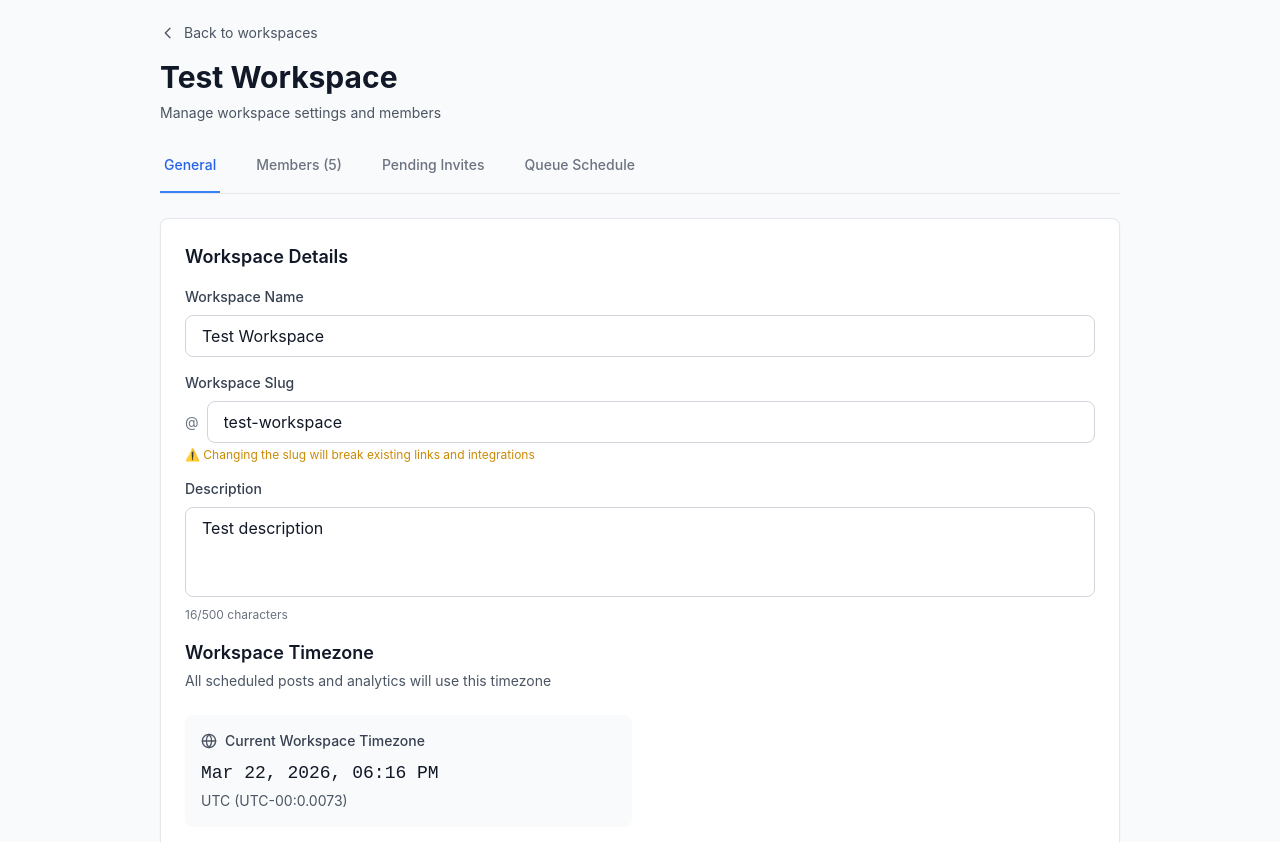
Scenario: workspace name › shows an error toast and reverts the input when save rejects
Step 1. Replace the text in the field showing "Test Workspace" below "Workspace Name" with "Updated Workspace" → coordinates (640, 336), box x1=185 y1=315 x2=1095 y2=357
(page scrolled)
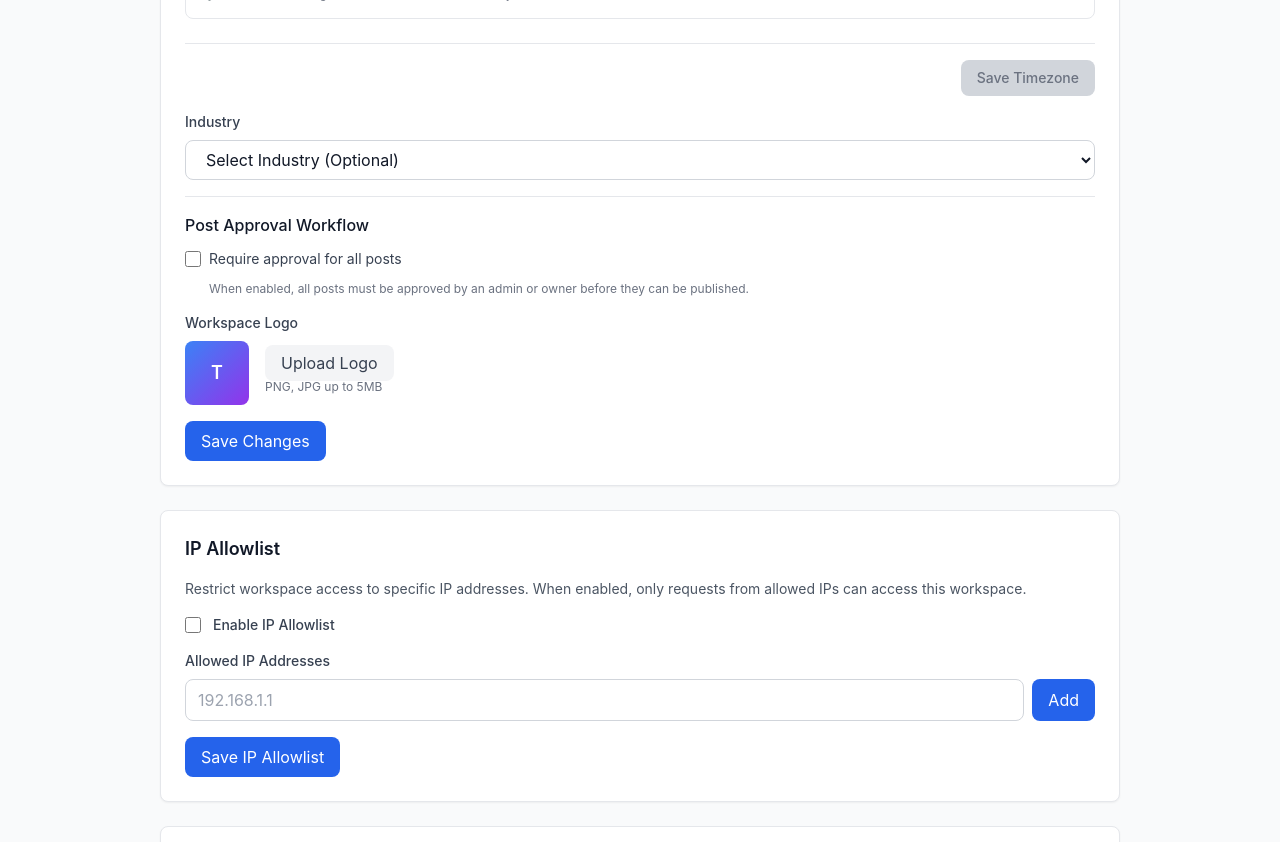
Step 2. Click the button "Save Changes" → coordinates (255, 441), box x1=185 y1=421 x2=326 y2=461
(page scrolled)
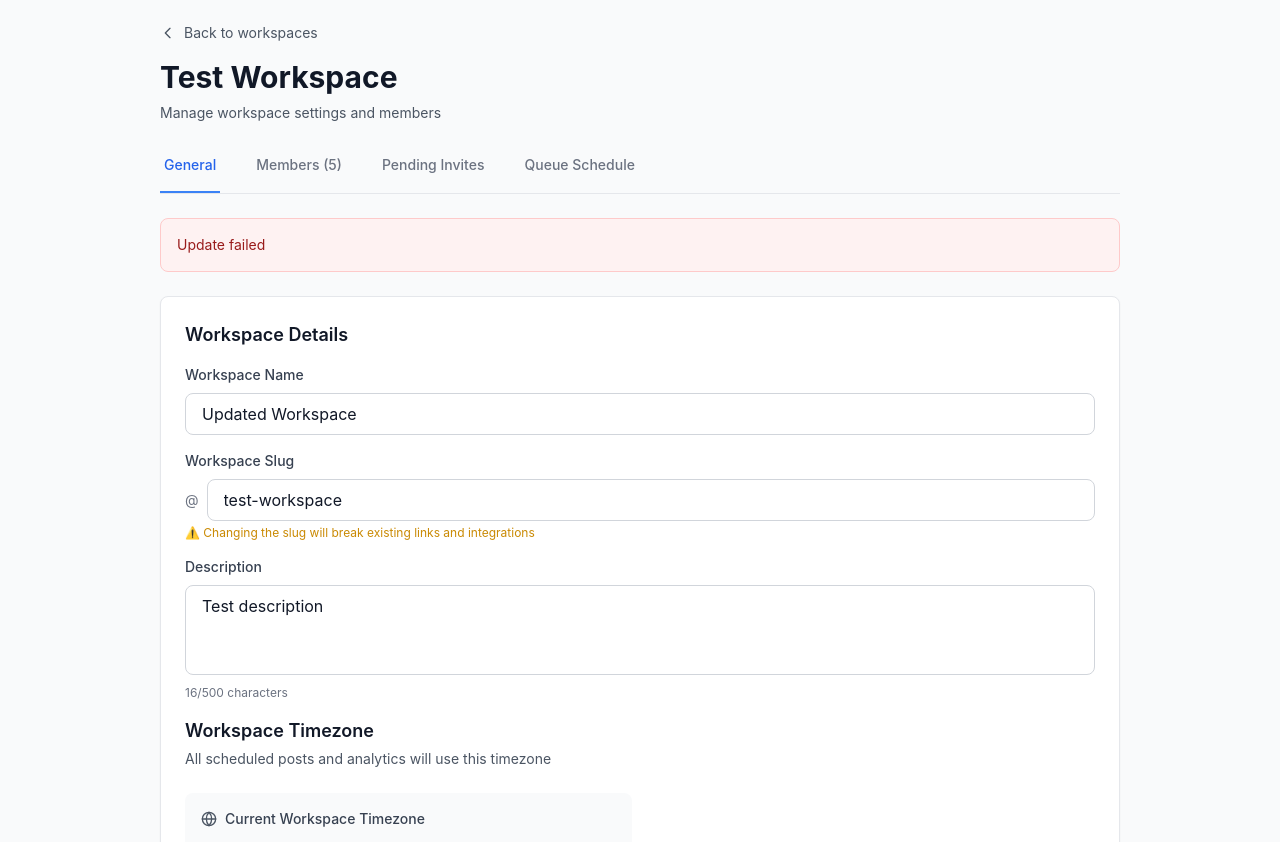
Result: the text "Update failed" is shown at x1=177 y1=236 x2=265 y2=253
